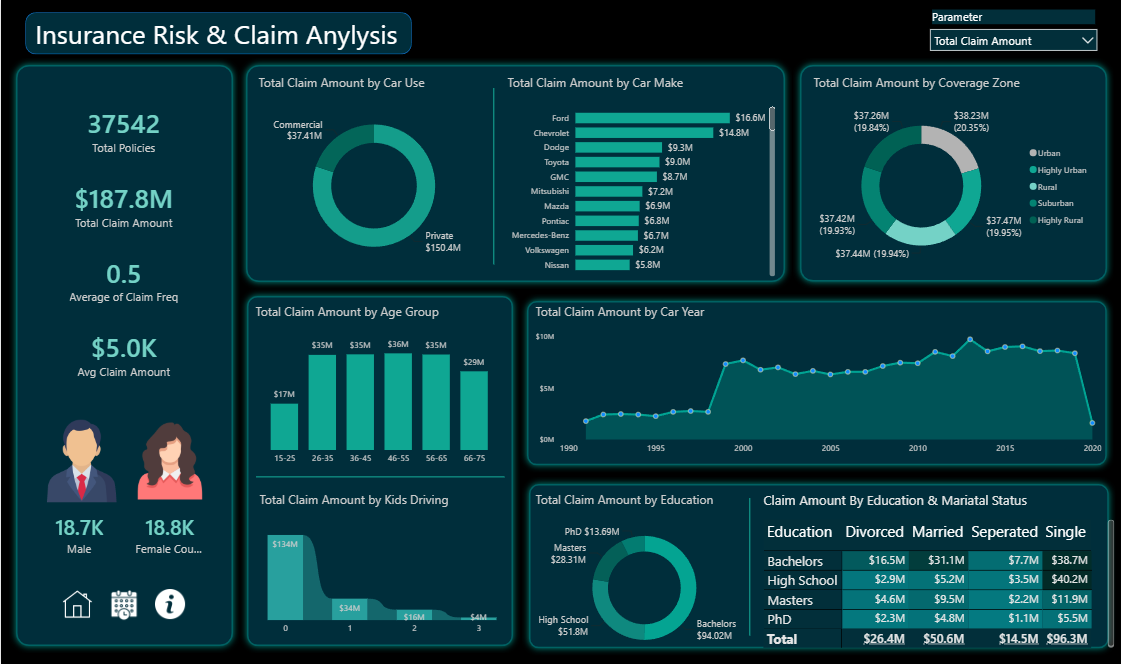

The dashboard page shown, as its layout file describes it:
{"tool":"powerbi","page":{"name":"Page 1","canvas":[1600,950],"ordinal":0},"visuals":[{"type":"shape","box":[10.9,82.7,330,850],"z":1000},{"type":"cardVisual","fields":{"Data":["insurance_data_car.Total Polisis","insurance_data_car.Total Claim Amount","Avg(insurance_data_car.Claim Freq)","insurance_data_car.Avg Claim Amount"]},"box":[40.1,117.9,271.1,454.7],"z":2000},{"type":"cardVisual","fields":{"Data":["insurance_data_car.Male Count","insurance_data_car.Female Count"]},"box":[34,718.5,284.5,90],"z":3000},{"type":"image","box":[54.7,598.2,121.6,120.4],"z":4000},{"type":"image","box":[186,598.2,110.6,120.4],"z":5000},{"type":"shape","box":[340.4,82.7,790,330],"z":6000},{"type":"donutChart","fields":{"Category":["insurance_data_car.Car Use"],"Y":["insurance_data_car.Total Claim Amount"]},"box":[363.5,105.8,340,285],"z":7000},{"type":"slicer","fields":{"Values":["Parameter.Parameter"]},"box":[1317.2,8.3,259.4,74.6],"z":8000},{"type":"clusteredBarChart","fields":{"Category":["insurance_data_car.Car Make"],"Y":["insurance_data_car.Total Claim Amount"]},"box":[719.1,105.3,392.4,294.3],"z":9000},{"type":"shape","box":[1131.2,82.9,458.4,329.3],"z":10000},{"type":"donutChart","fields":{"Category":["insurance_data_car.Coverage Zone"],"Y":["insurance_data_car.Total Claim Amount"]},"box":[1156.1,105.4,410,285],"z":11000},{"type":"shape","box":[341.1,413.4,400,520],"z":12000},{"type":"clusteredColumnChart","fields":{"Category":["insurance_data_car.Age Group"],"Y":["insurance_data_car.Total Claim Amount"]},"box":[358.9,433.5,365,240],"z":13000},{"type":"ribbonChart","fields":{"Category":["insurance_data_car.Kids Driving"],"Y":["insurance_data_car.Total Claim Amount"]},"box":[363.7,701.2,360.1,214.4],"z":14000},{"type":"shape","box":[741.5,419.3,848.1,254.7],"z":15000},{"type":"areaChart","fields":{"Category":["insurance_data_car.Car Year"],"Y":["insurance_data_car.Total Claim Amount"]},"box":[758.1,433.5,818.5,225.1],"z":16000},{"type":"shape","box":[743.9,681.1,848.1,254.7],"z":17000},{"type":"pieChart","fields":{"Category":["insurance_data_car.Education"],"Y":["insurance_data_car.Total Claim Amount"]},"box":[758.1,701.2,321,242.8],"z":18000},{"type":"pivotTable","title":"Claim Amount By Education & Mariatal Status","fields":{"Columns":["insurance_data_car.Marital Status"],"Rows":["insurance_data_car.Education"],"Values":["insurance_data_car.Total Claim Amount"]},"box":[1083.9,701.2,510.5,228.6],"z":19000},{"type":"shape","box":[569.8,125.6,267.7,252.3],"z":20000},{"type":"shape","box":[935.8,710.7,267.7,196.6],"z":21000},{"type":"shape","box":[363.7,582.8,355.4,196.6],"z":22000},{"type":"image","box":[79.2,843.1,60.8,42.3],"z":23000},{"type":"image","box":[154.6,843.1,42.6,42.6],"z":24000},{"type":"image","box":[220,841.5,42.6,42.6],"z":25000},{"type":"shape","box":[25.7,8.6,570,78],"z":26000}]}

Visuals, with their boxes in screenshot pixels (x1, y1, x2, y2), scaled from the page's 1600x950 canvas onto the 1121x664 screenshot:
shape: 8 58 239 652
cardVisual - insurance_data_car.Total Polisis x insurance_data_car.Total Claim Amount: 28 82 218 400
cardVisual - insurance_data_car.Male Count x insurance_data_car.Female Count: 24 502 223 565
image: 38 418 124 502
image: 130 418 208 502
shape: 238 58 792 288
donutChart - insurance_data_car.Car Use x insurance_data_car.Total Claim Amount: 255 74 493 273
slicer - Parameter.Parameter: 923 6 1105 58
clusteredBarChart - insurance_data_car.Car Make x insurance_data_car.Total Claim Amount: 504 74 779 279
shape: 793 58 1114 288
donutChart - insurance_data_car.Coverage Zone x insurance_data_car.Total Claim Amount: 810 74 1097 273
shape: 239 289 519 652
clusteredColumnChart - insurance_data_car.Age Group x insurance_data_car.Total Claim Amount: 251 303 507 471
ribbonChart - insurance_data_car.Kids Driving x insurance_data_car.Total Claim Amount: 255 490 507 640
shape: 520 293 1114 471
areaChart - insurance_data_car.Car Year x insurance_data_car.Total Claim Amount: 531 303 1105 460
shape: 521 476 1115 654
pieChart - insurance_data_car.Education x insurance_data_car.Total Claim Amount: 531 490 756 660
"Claim Amount By Education & Mariatal Status" pivotTable: 759 490 1117 650
shape: 399 88 587 264
shape: 656 497 843 634
shape: 255 407 504 545
image: 55 589 98 619
image: 108 589 138 619
image: 154 588 184 618
shape: 18 6 417 61
